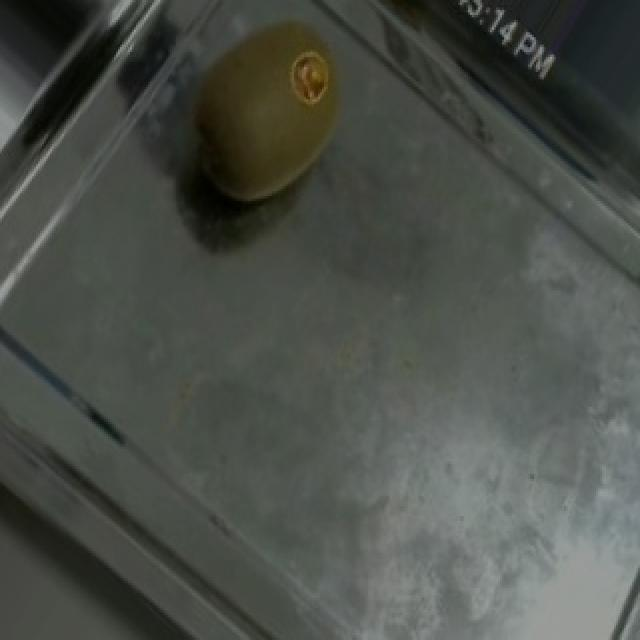Fruit: (146, 3, 374, 238)
